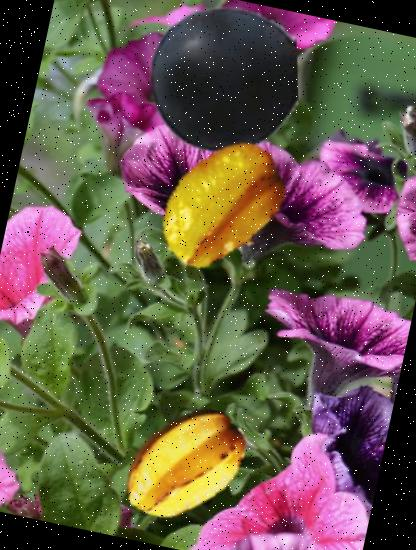Carambula: (139, 121, 309, 292), (105, 384, 263, 542)
Grape: (134, 0, 311, 167)
